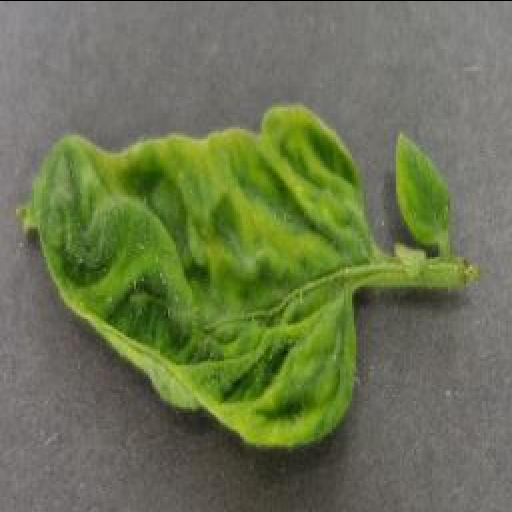disease_tomato: (16, 102, 382, 452), (392, 125, 454, 245)
